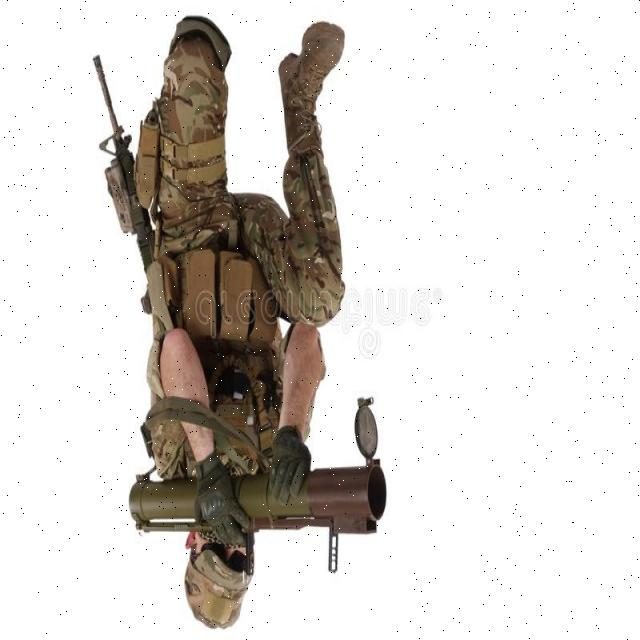bazooka: (128, 391, 397, 586)
